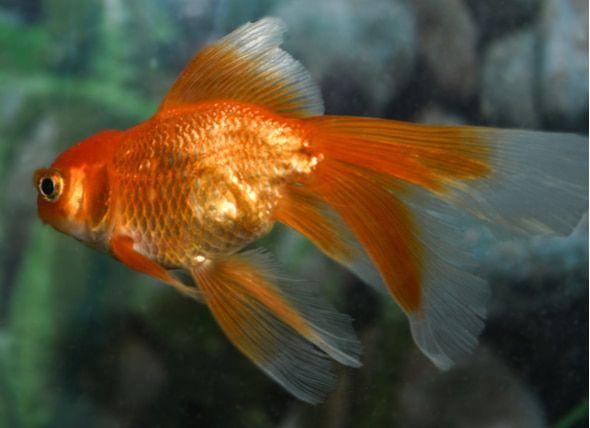Gold Fish: (38, 18, 590, 404)
